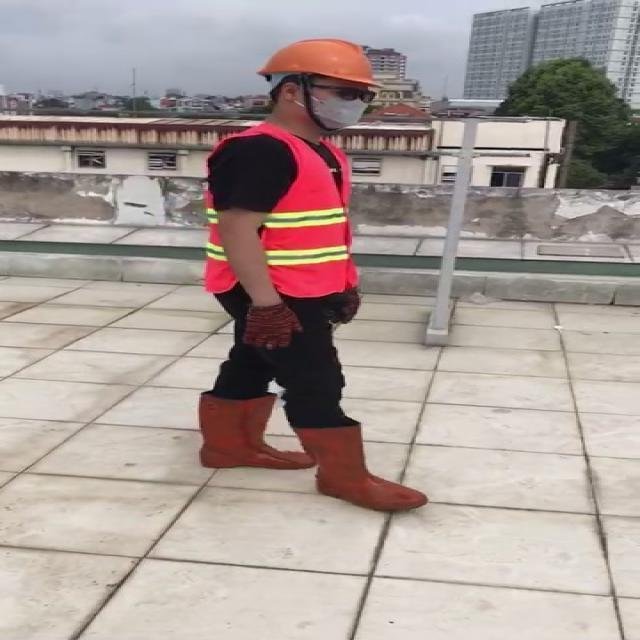helmet: (258, 38, 378, 86)
safety_vest: (200, 128, 358, 295)
